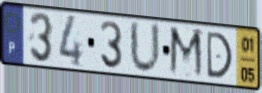3: (25, 11, 56, 65), (99, 20, 124, 71)
4: (57, 14, 86, 70)
D: (205, 30, 234, 80)
M: (168, 24, 206, 81)
U: (128, 18, 163, 77)
